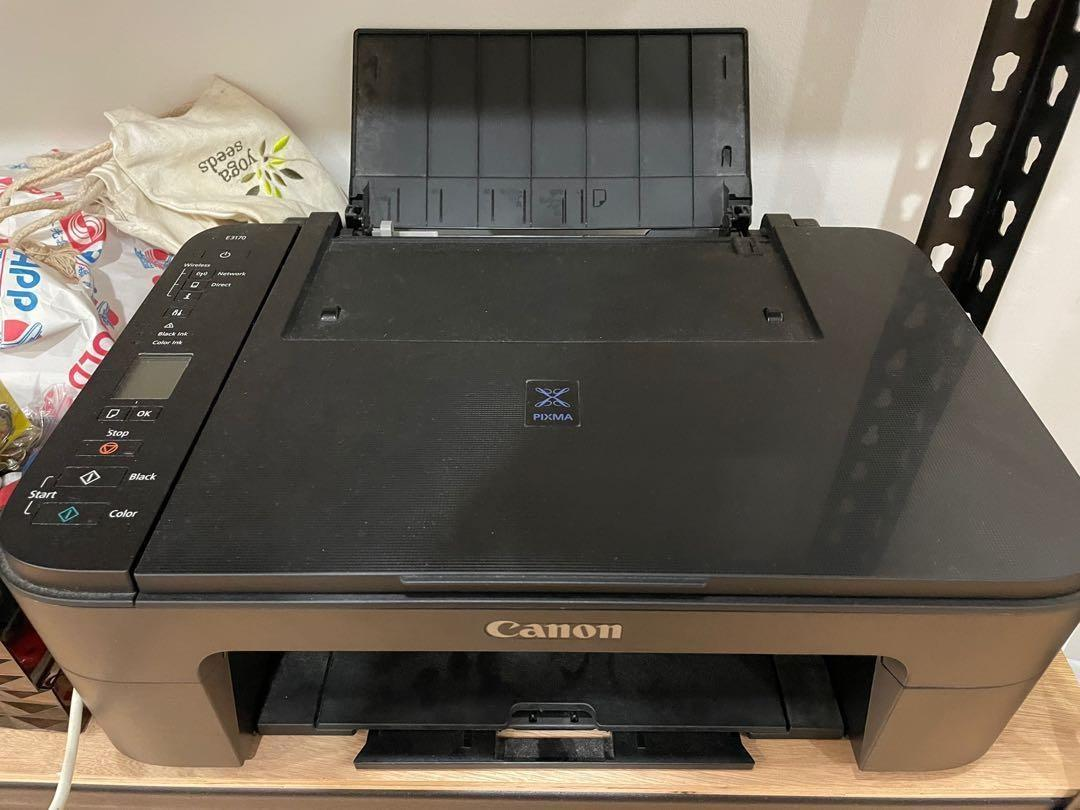Printer: (0, 26, 1079, 770)
